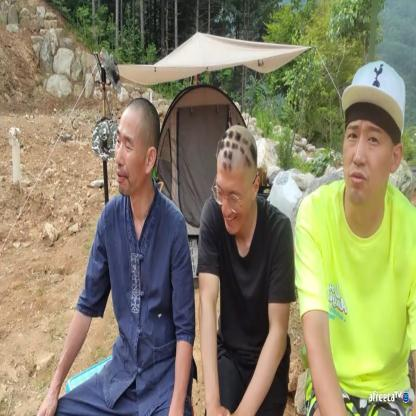streamer: (37, 98, 197, 416), (295, 59, 416, 416), (197, 125, 294, 416)
